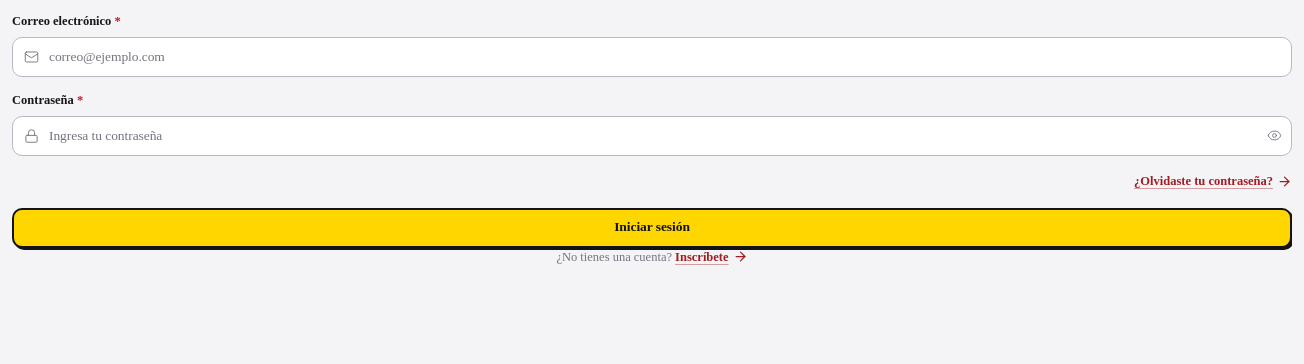
Test: LoginPage › failed submission › tells a deactivated account to contact the club, with the club's WhatsApp link
Type "user@cataclub.com" into the field labelled "Correo electrónico *" at (652, 57), box [12,37,1292,77]
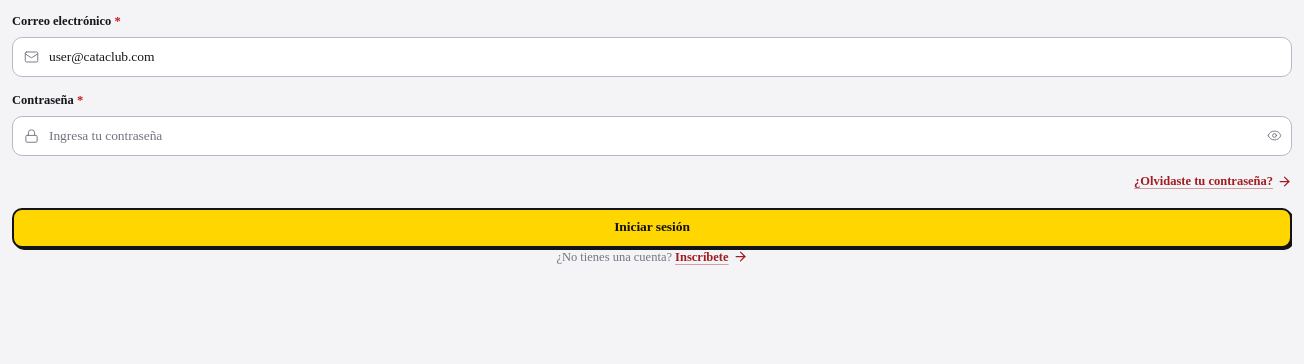
Type "secret123" into the password field labelled "Contraseña *" at (652, 136), box [12,116,1292,156]
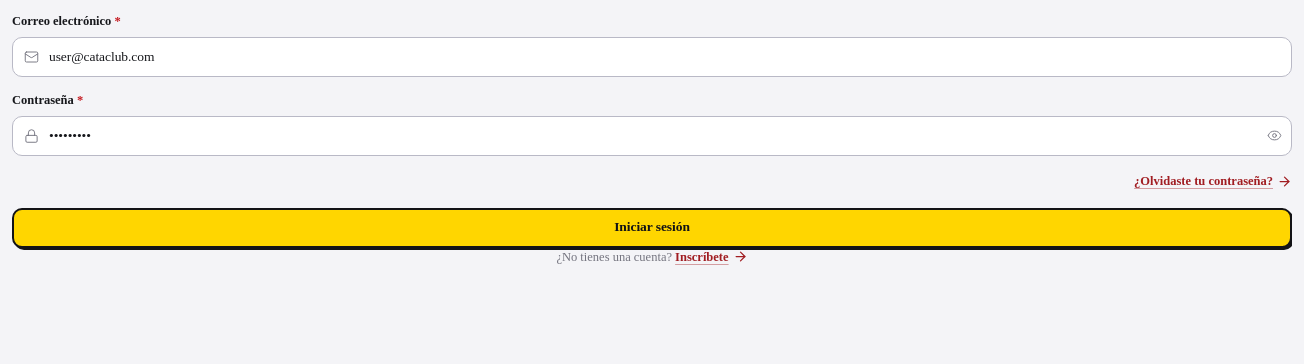
Click the button "Iniciar sesión" at (652, 228), box [12,208,1292,248]
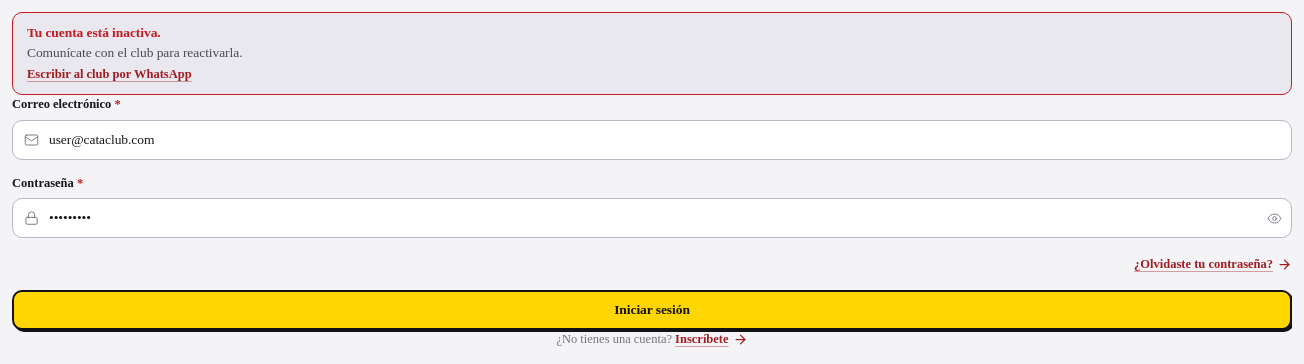
Now the message with test id "login-failure" shows "Tu cuenta está inactiva.", box [27,25,161,40]
Now the message with test id "login-failure" shows "Comunícate con el club para reactivarla.", box [27,45,242,60]
